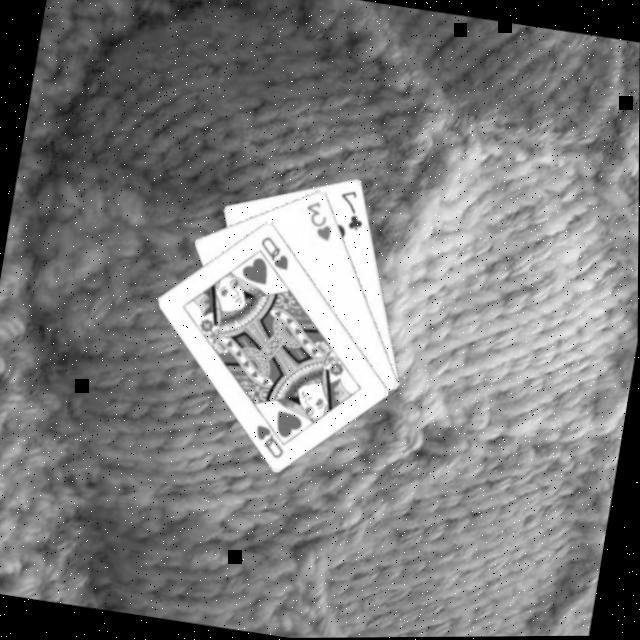3H: (301, 197, 341, 246)
7C: (334, 186, 373, 236)
QH: (250, 411, 295, 463), (255, 233, 297, 275)
